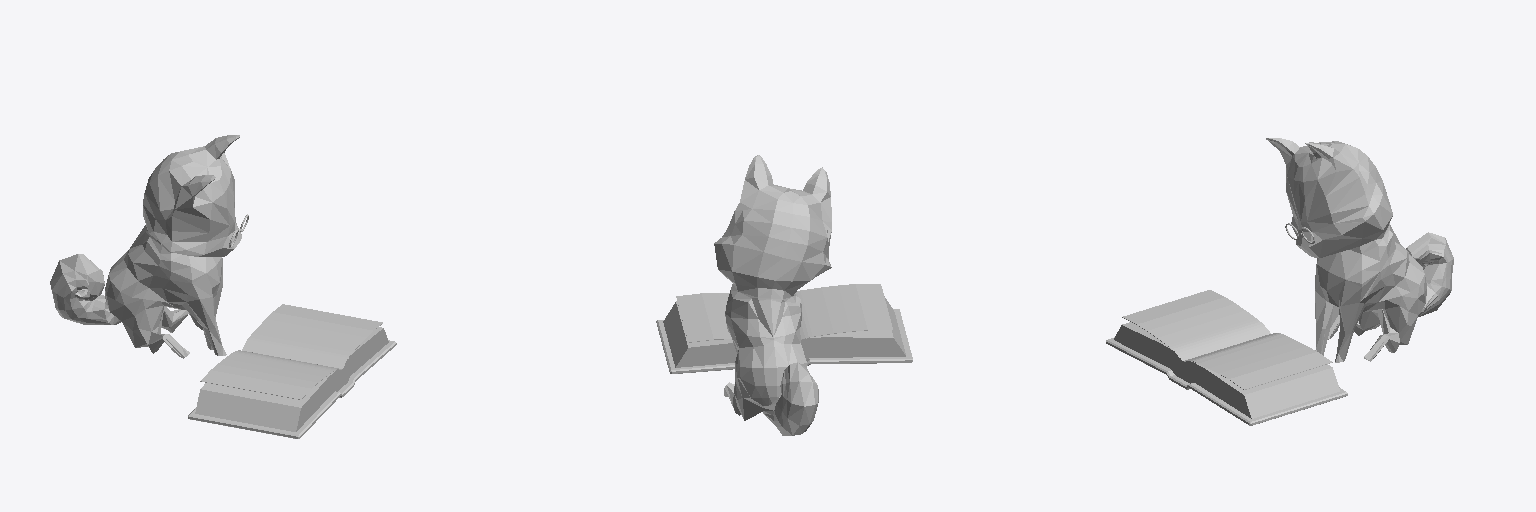
File: book_frame17.obj
3 renders of one model, left to right at view 1: azimuth 30°, elevation 25°; view 2: azimuth 150°, elevation 25°; view 3: azimuth 270°, elevation 25°, orthographic.
Parts seen in each view (by area): view 1: StidyGlasses_Computer_Sitting:Sitting:newRigging:BodzL1, polySurface1; view 2: StidyGlasses_Computer_Sitting:Sitting:newRigging:BodzL1, polySurface1; view 3: StidyGlasses_Computer_Sitting:Sitting:newRigging:BodzL1, polySurface1.
Boxes of the visible parts, box(x1,y1,x2,y2) form: StidyGlasses_Computer_Sitting:Sitting:newRigging:BodzL1: box(50, 135, 241, 358); polySurface1: box(188, 304, 396, 438); StidyGlasses_Computer_Sitting:Sitting:newRigging:BodzL1: box(714, 155, 831, 435); polySurface1: box(656, 284, 912, 373); StidyGlasses_Computer_Sitting:Sitting:newRigging:BodzL1: box(1266, 138, 1453, 362); polySurface1: box(1106, 290, 1347, 425).
Bounding box in the file's own units: 9.18 × 7.77 × 11.01.